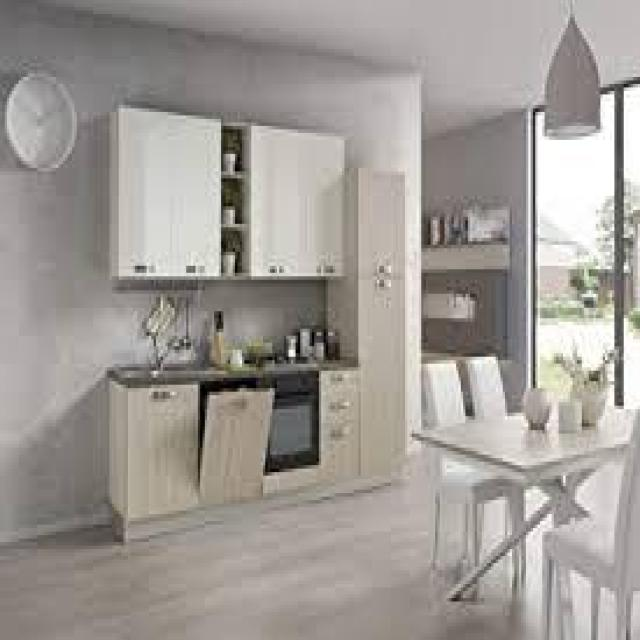dishwasher: (193, 378, 279, 510)
